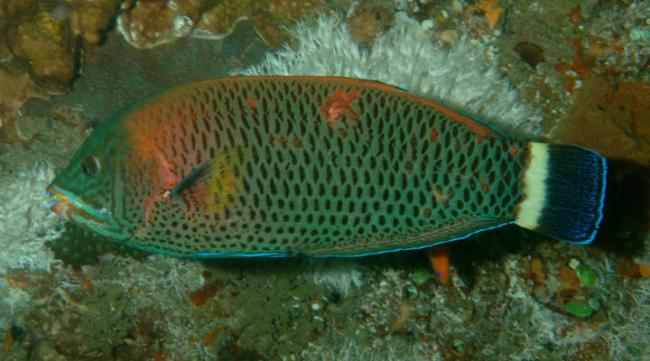fish: (46, 75, 608, 259)
